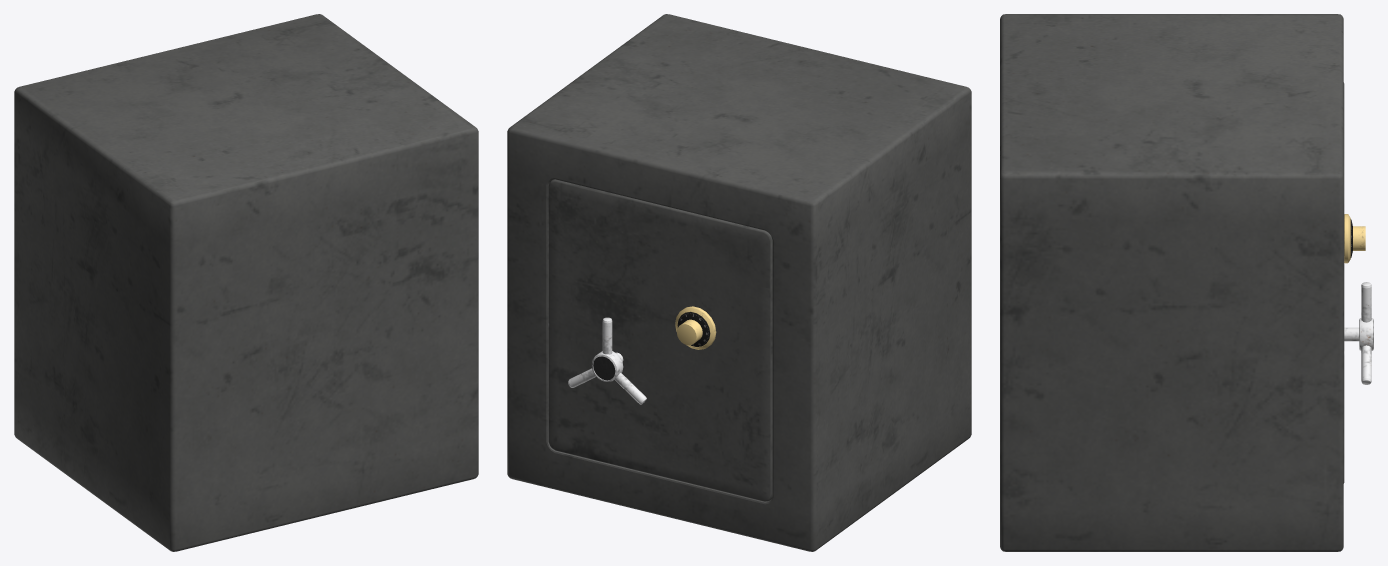
File: safe_opening.glb
3 views of the same model, side by side, from view 1: azimuth 30°, elevation 25°; view 2: azimuth 150°, elevation 25°; view 3: azimuth 270°, elevation 25° (orthographic). The views are drawn at different scales.
Visible parts, largest first — view 1: Safe_Body; view 2: Safe_Body, Safe_Door, Safe_Handle, Safe_Lock; view 3: Safe_Body, Safe_Handle, Safe_Door, Safe_Lock.
Part boxes in pixels (box(x1,y1,x2,y2)): Safe_Body: box(14, 14, 478, 551); Safe_Body: box(507, 14, 971, 551); Safe_Door: box(548, 179, 772, 501); Safe_Handle: box(568, 317, 646, 404); Safe_Lock: box(675, 306, 716, 349); Safe_Body: box(1000, 14, 1343, 551); Safe_Handle: box(1344, 282, 1373, 384); Safe_Door: box(1343, 82, 1344, 483); Safe_Lock: box(1344, 214, 1365, 263).
Bounding box in the file's own units: 1.26 × 1.37 × 1.23.
1 material, 1 textured.
